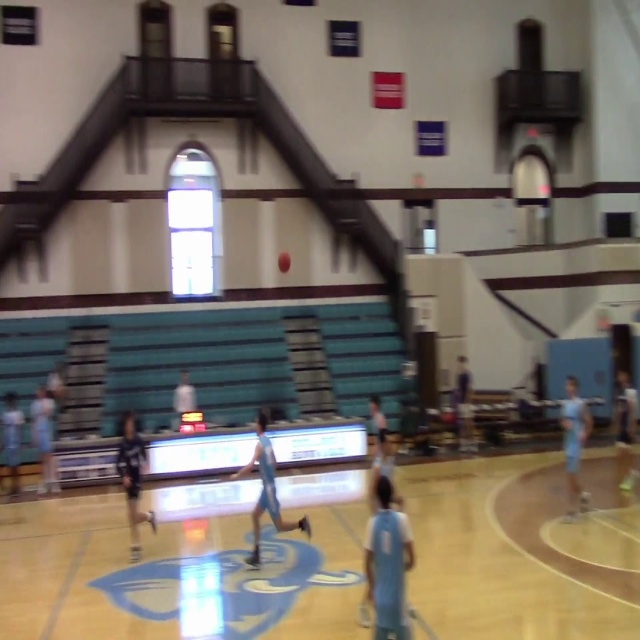Basketball: (278, 251, 290, 273)
